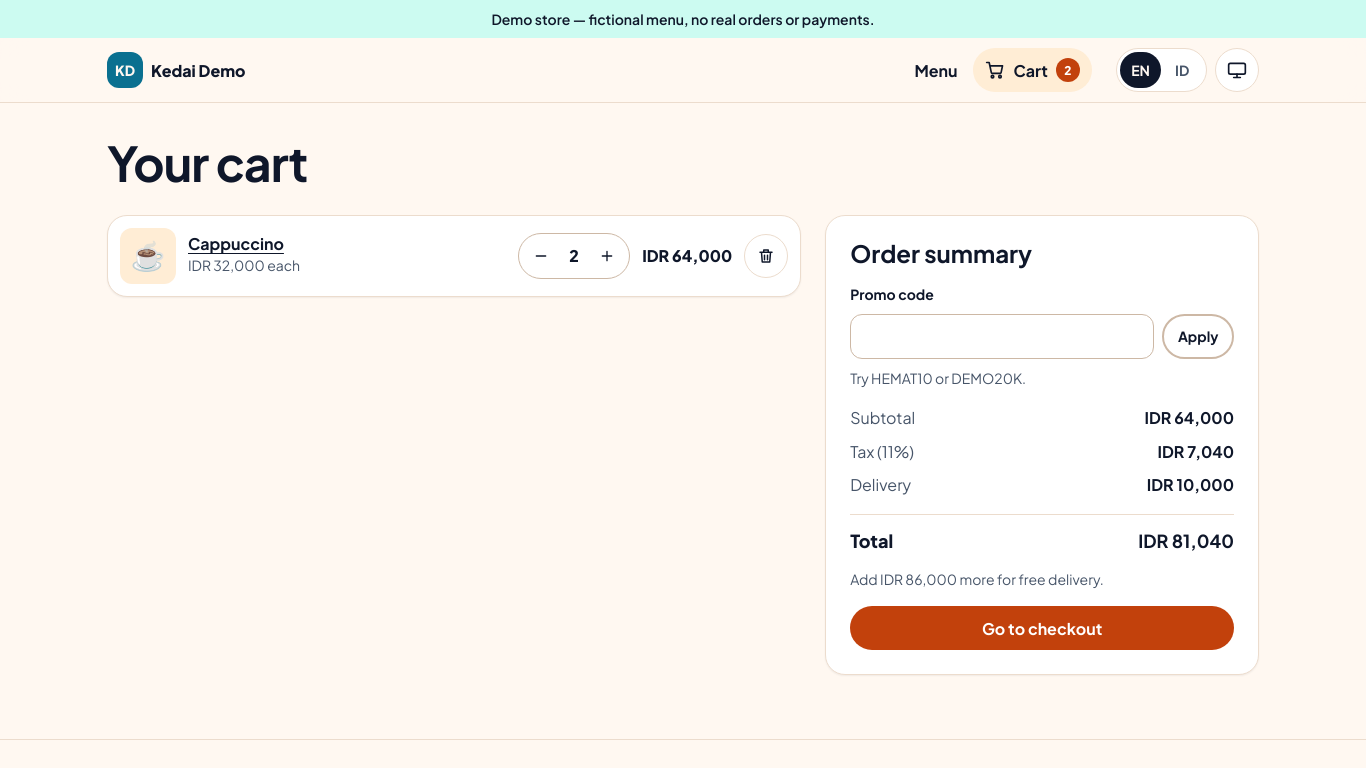
Test: cart › changes quantities and removes lines on the cart page
Click the button named "Increase quantity of Cappuccino".
click(607, 256)  # box top-left (585, 234), bottom-right (629, 278)
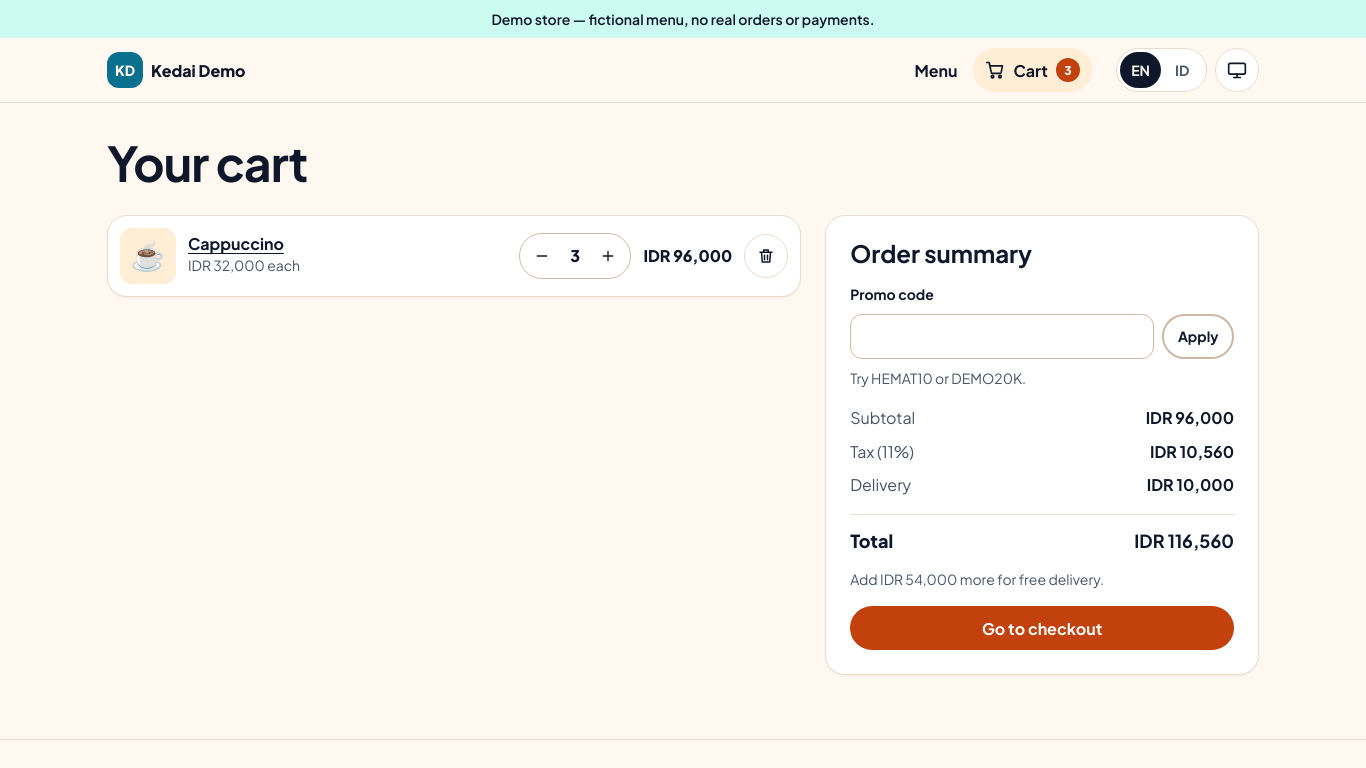
Now the link with aria-label "Cart, 3 items" is shown, box top-left (974, 48), bottom-right (1092, 92)
Click the button named "Remove Cappuccino".
click(766, 256)  # box top-left (744, 234), bottom-right (788, 278)
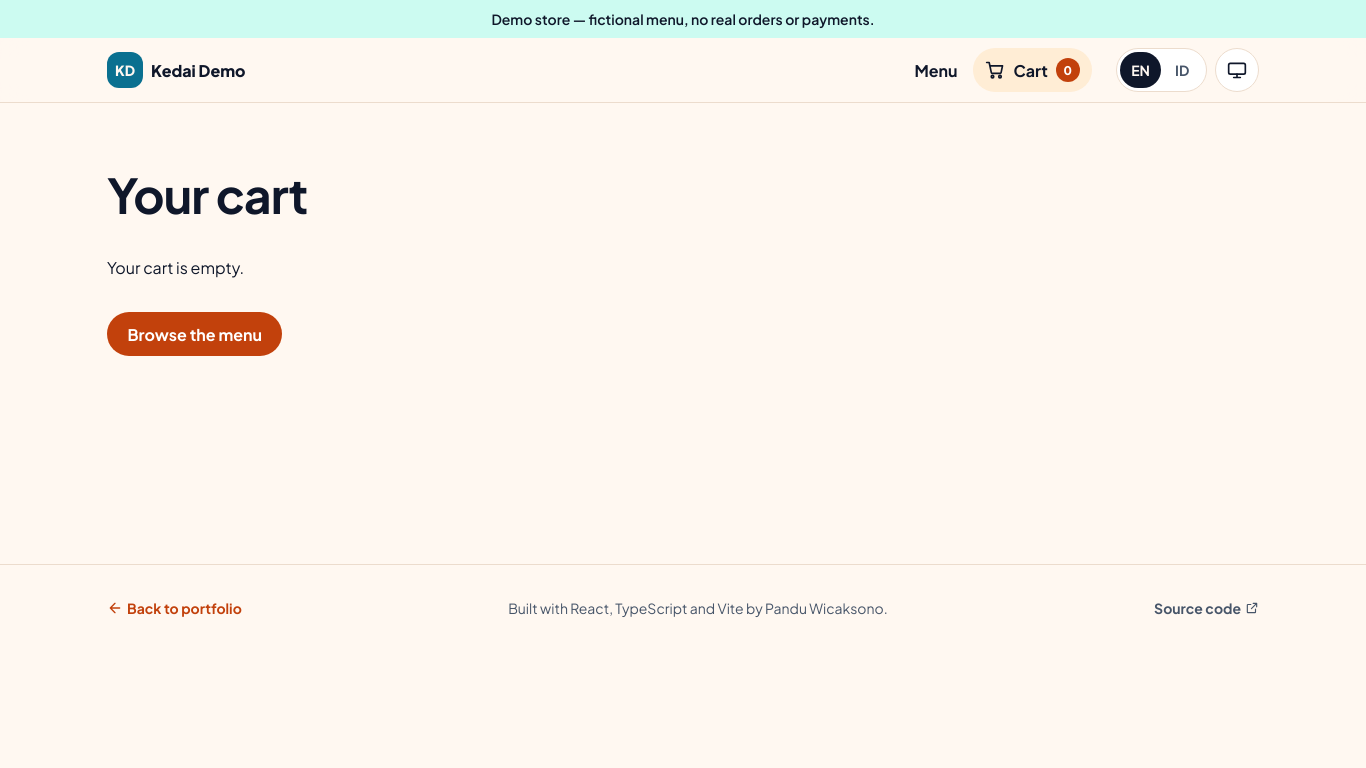
Now the text "Your cart is empty." is shown, box top-left (107, 255), bottom-right (244, 280)
